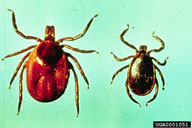Mites: (5, 7, 90, 119), (111, 13, 174, 114)
